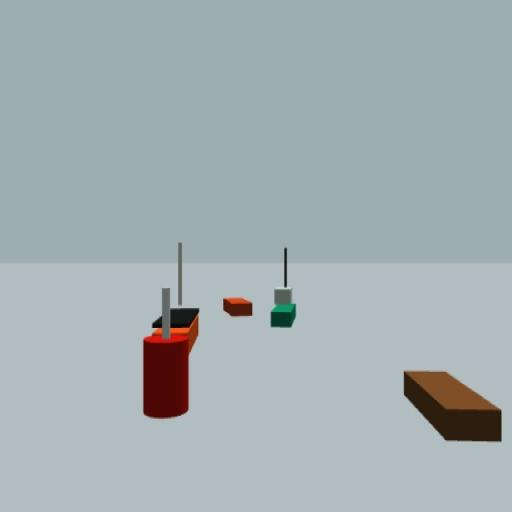debris_container: (402, 370, 503, 442), (222, 296, 253, 318)
fishing_boat: (271, 248, 297, 329)
floating_obstacle: (142, 287, 190, 419)
